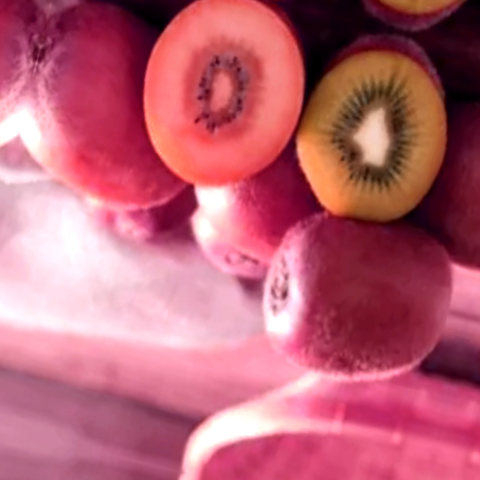kiwi: (0, 0, 244, 258), (231, 196, 479, 412)
